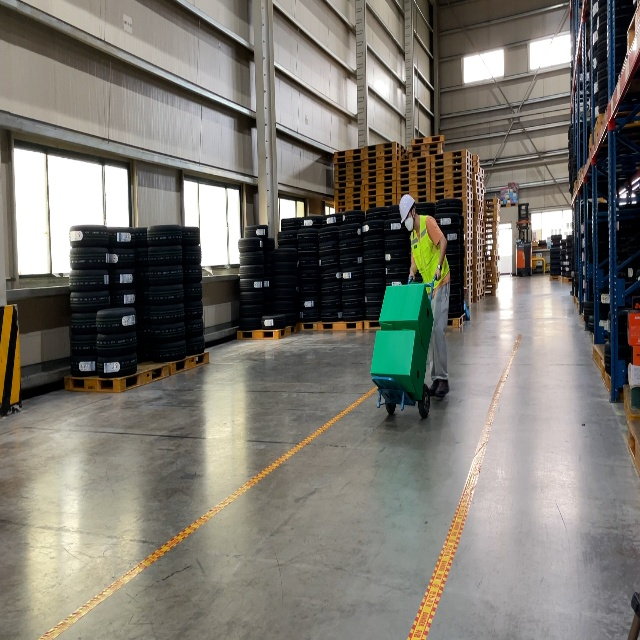Box: (370, 328, 428, 401), (378, 282, 434, 356)
Worker: (399, 193, 451, 399)
